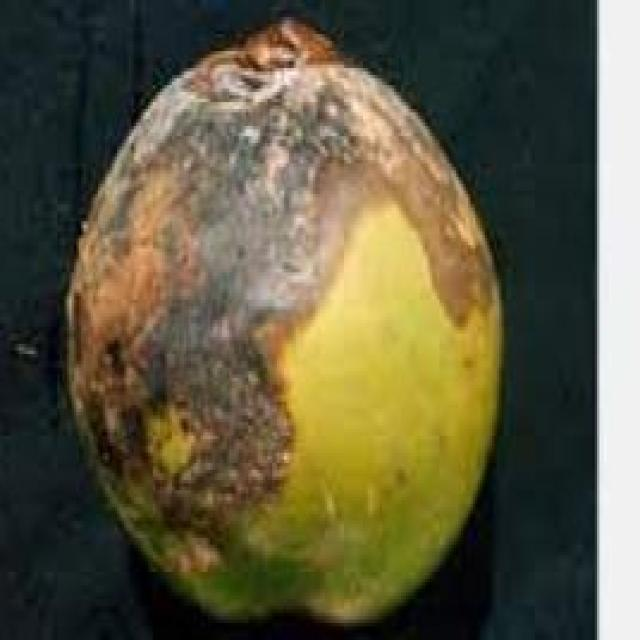damaged: (60, 17, 504, 633)
